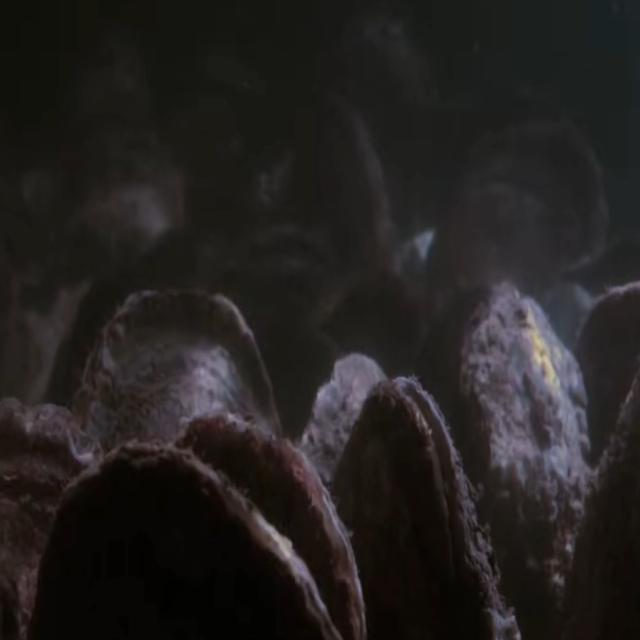Oyster-Closed: (30, 439, 343, 640), (171, 411, 367, 640), (0, 391, 103, 640)
Oyster-Indeterminate: (74, 288, 282, 640), (456, 279, 591, 640), (426, 116, 608, 332), (299, 353, 389, 640), (287, 82, 399, 286), (57, 125, 187, 272), (571, 279, 640, 502)
Oyster-Open: (328, 374, 518, 640), (214, 221, 340, 326)
